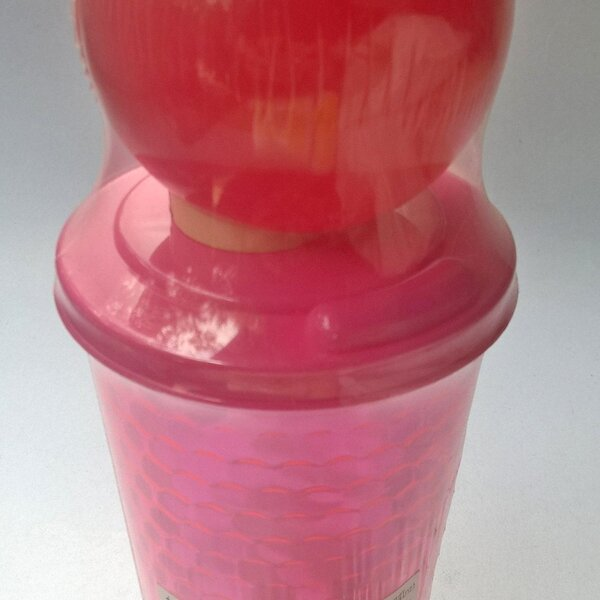plastic_glass: (13, 100, 560, 600)
